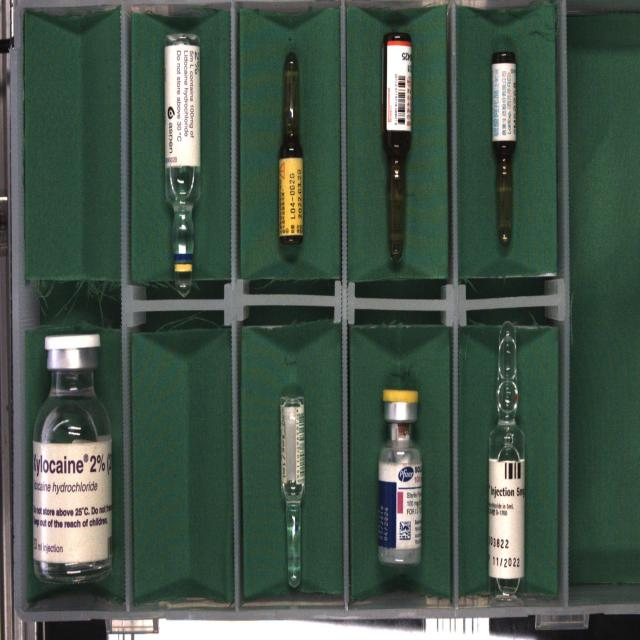Vials: (31, 333, 113, 584), (378, 389, 421, 565)
